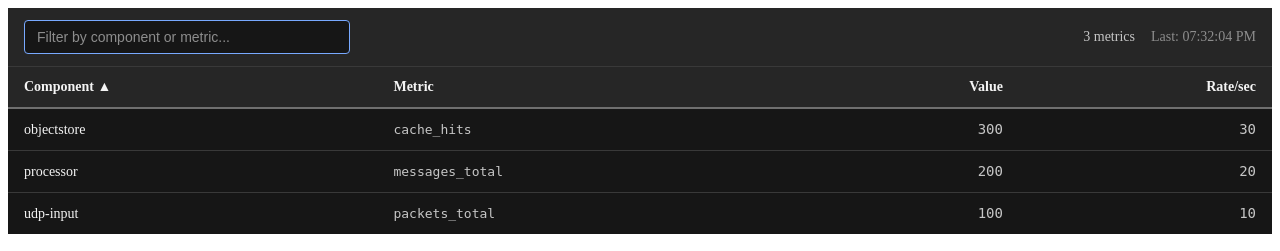
Test case: MetricsTab › Filtering › should filter metrics by component name
In the field with test id "metrics-filter": {"x": 187, "y": 37} [24, 20, 350, 54], type "udp"
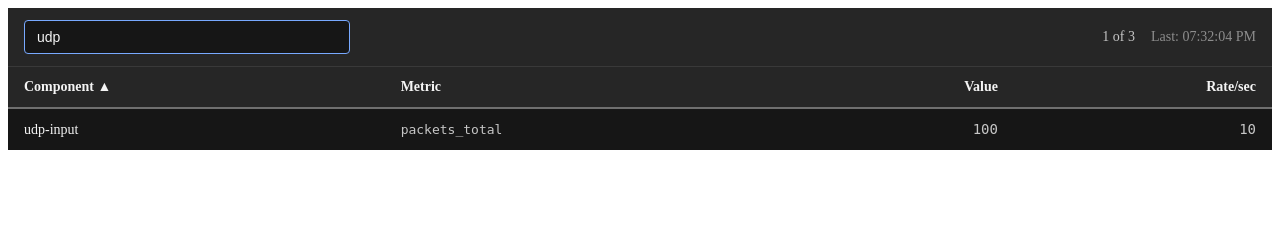
Expected: the row with test id "metrics-row" shows "udp-input", [24, 122, 78, 136]
Expected: the number of rows with test id "metrics-row" is 1, [8, 108, 1272, 150]
